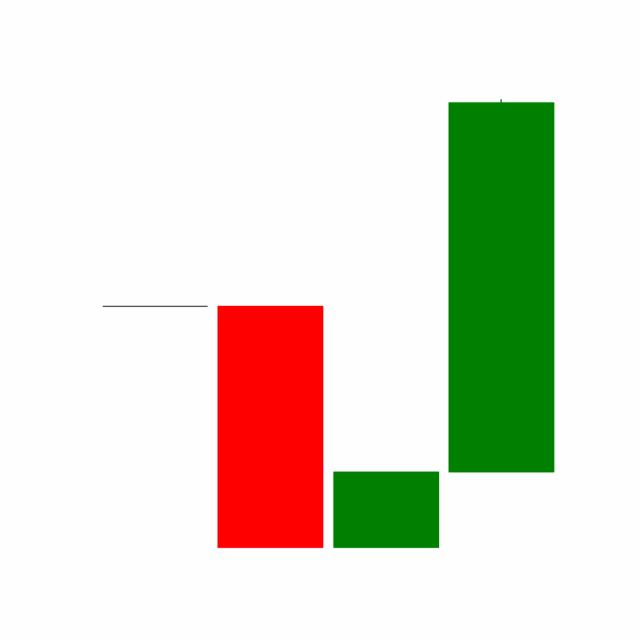Marubozu: (443, 94, 559, 475)
